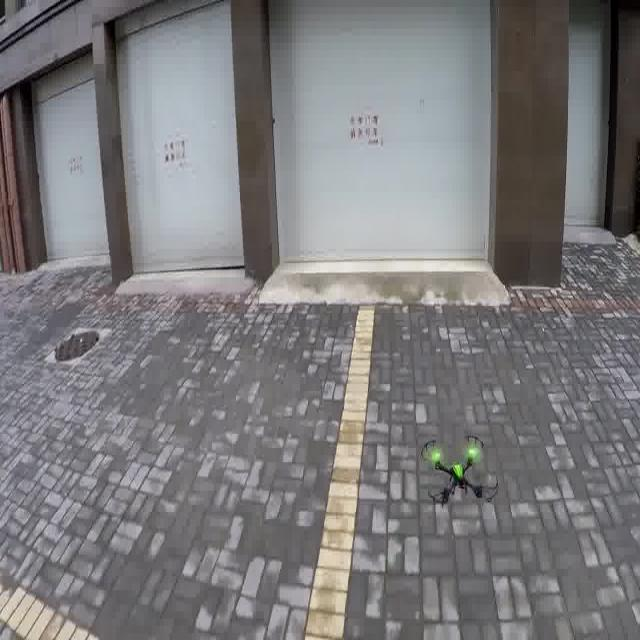drones: (415, 424, 504, 517)
